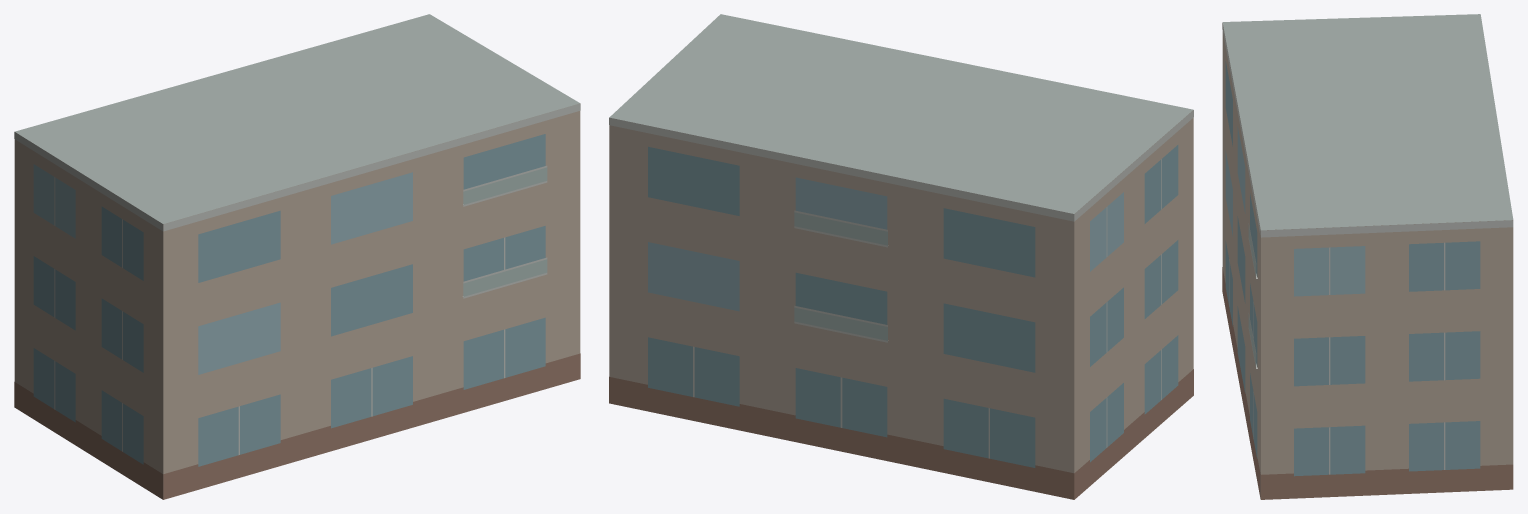
The model's file is survey-upis-32950282.glb.
3 views of the same model, side by side, from view 1: azimuth 30°, elevation 25°; view 2: azimuth 150°, elevation 25°; view 3: azimuth 270°, elevation 25° (orthographic). The views are drawn at different scales.
Visible parts, largest first — view 1: survey-upis-32950282.tmp; view 2: survey-upis-32950282.tmp; view 3: survey-upis-32950282.tmp.
Boxes of the visible parts, bbox=[...] form: survey-upis-32950282.tmp: bbox=[14, 14, 580, 499]; survey-upis-32950282.tmp: bbox=[609, 14, 1193, 499]; survey-upis-32950282.tmp: bbox=[1222, 14, 1513, 499].
Bounding box in the file's own units: 15.76 × 9.15 × 8.96.
